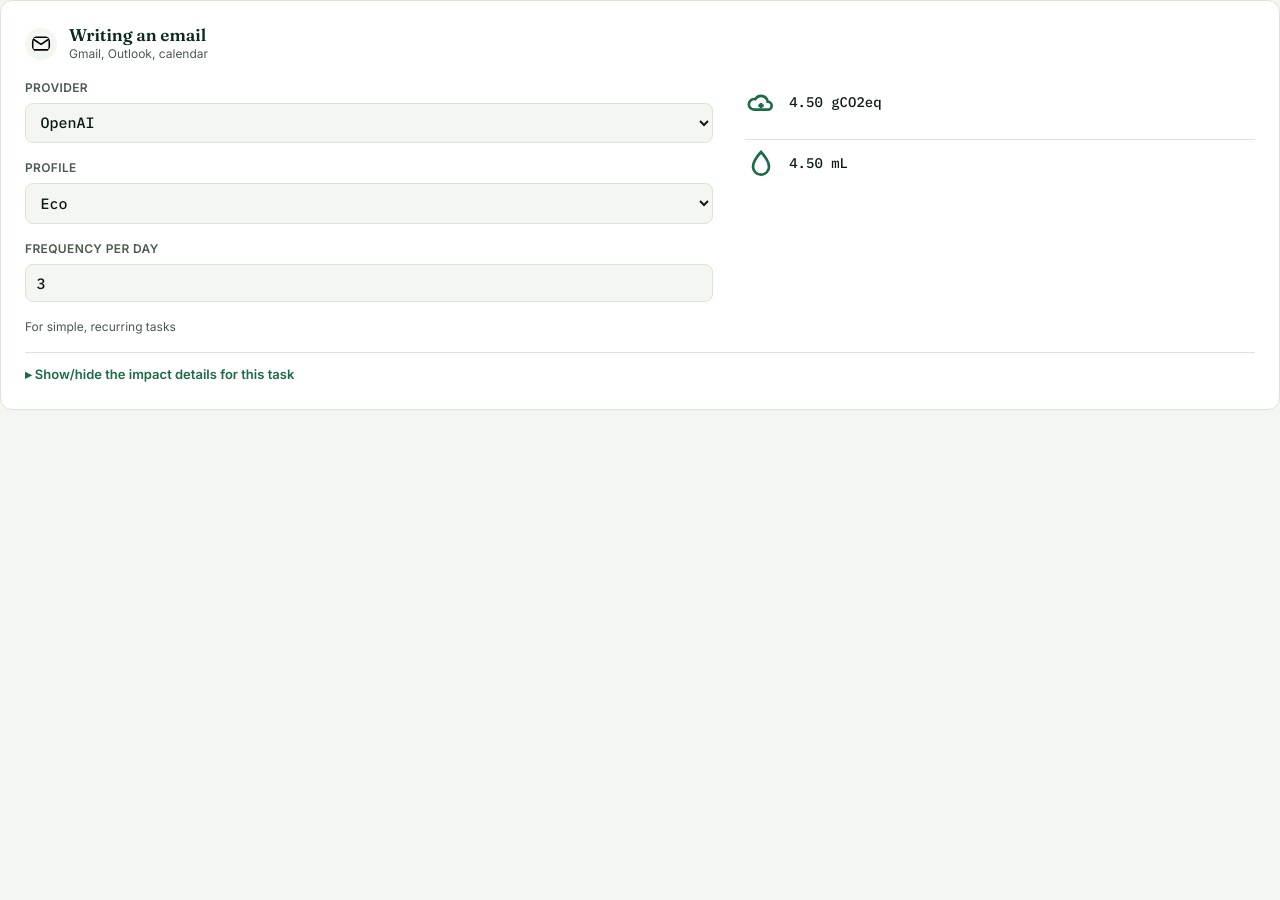
Scenario: UseCaseCard › scales the details values by frequencyPerDay
Click the heading "Show/hide the impact details for this task": [165, 374] box [35,366,294,382]
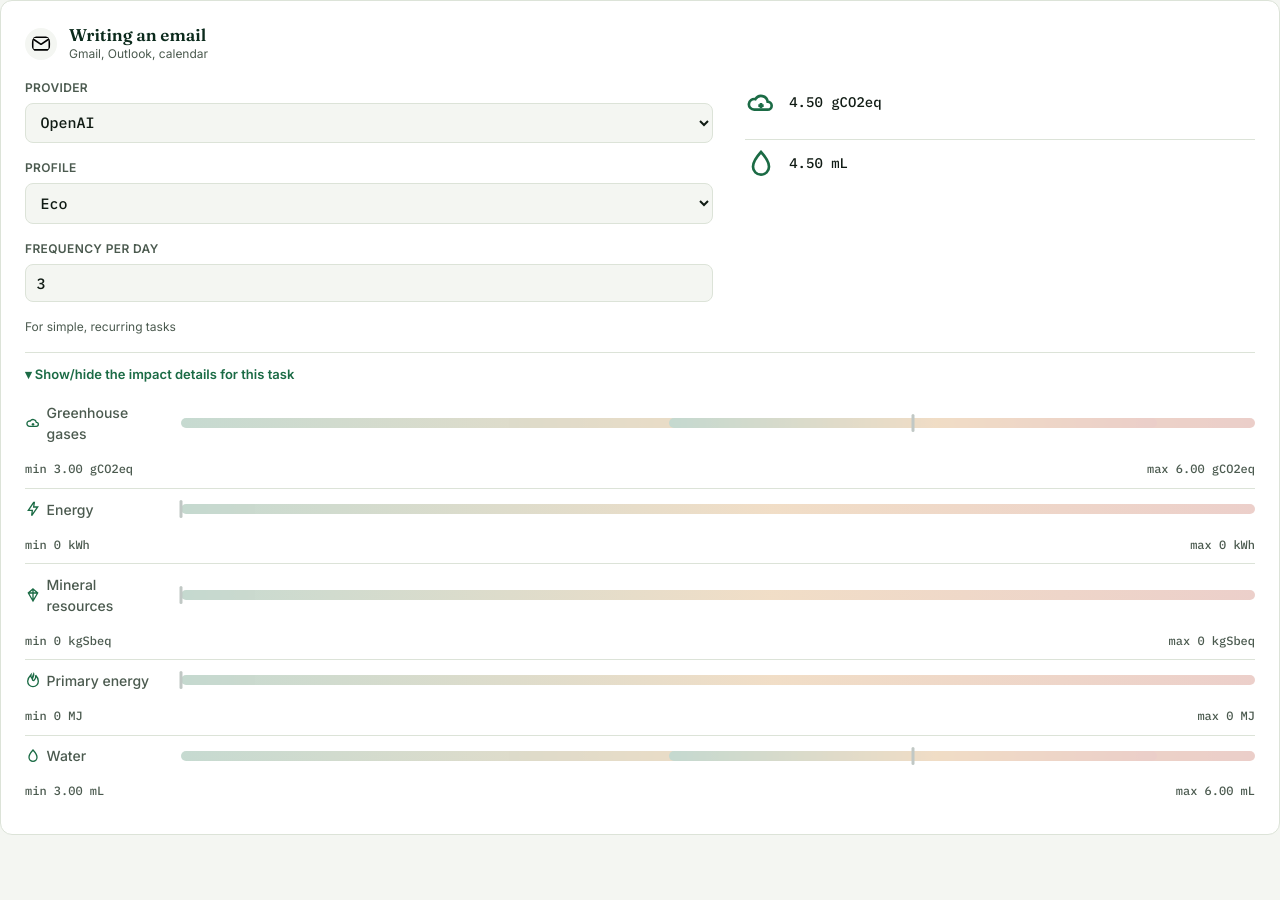
Expected: the text "min 3.00 gCO2eq" is shown, [25,460,133,478]
Expected: the text "max 6.00 gCO2eq" is shown, [1147,460,1255,478]
